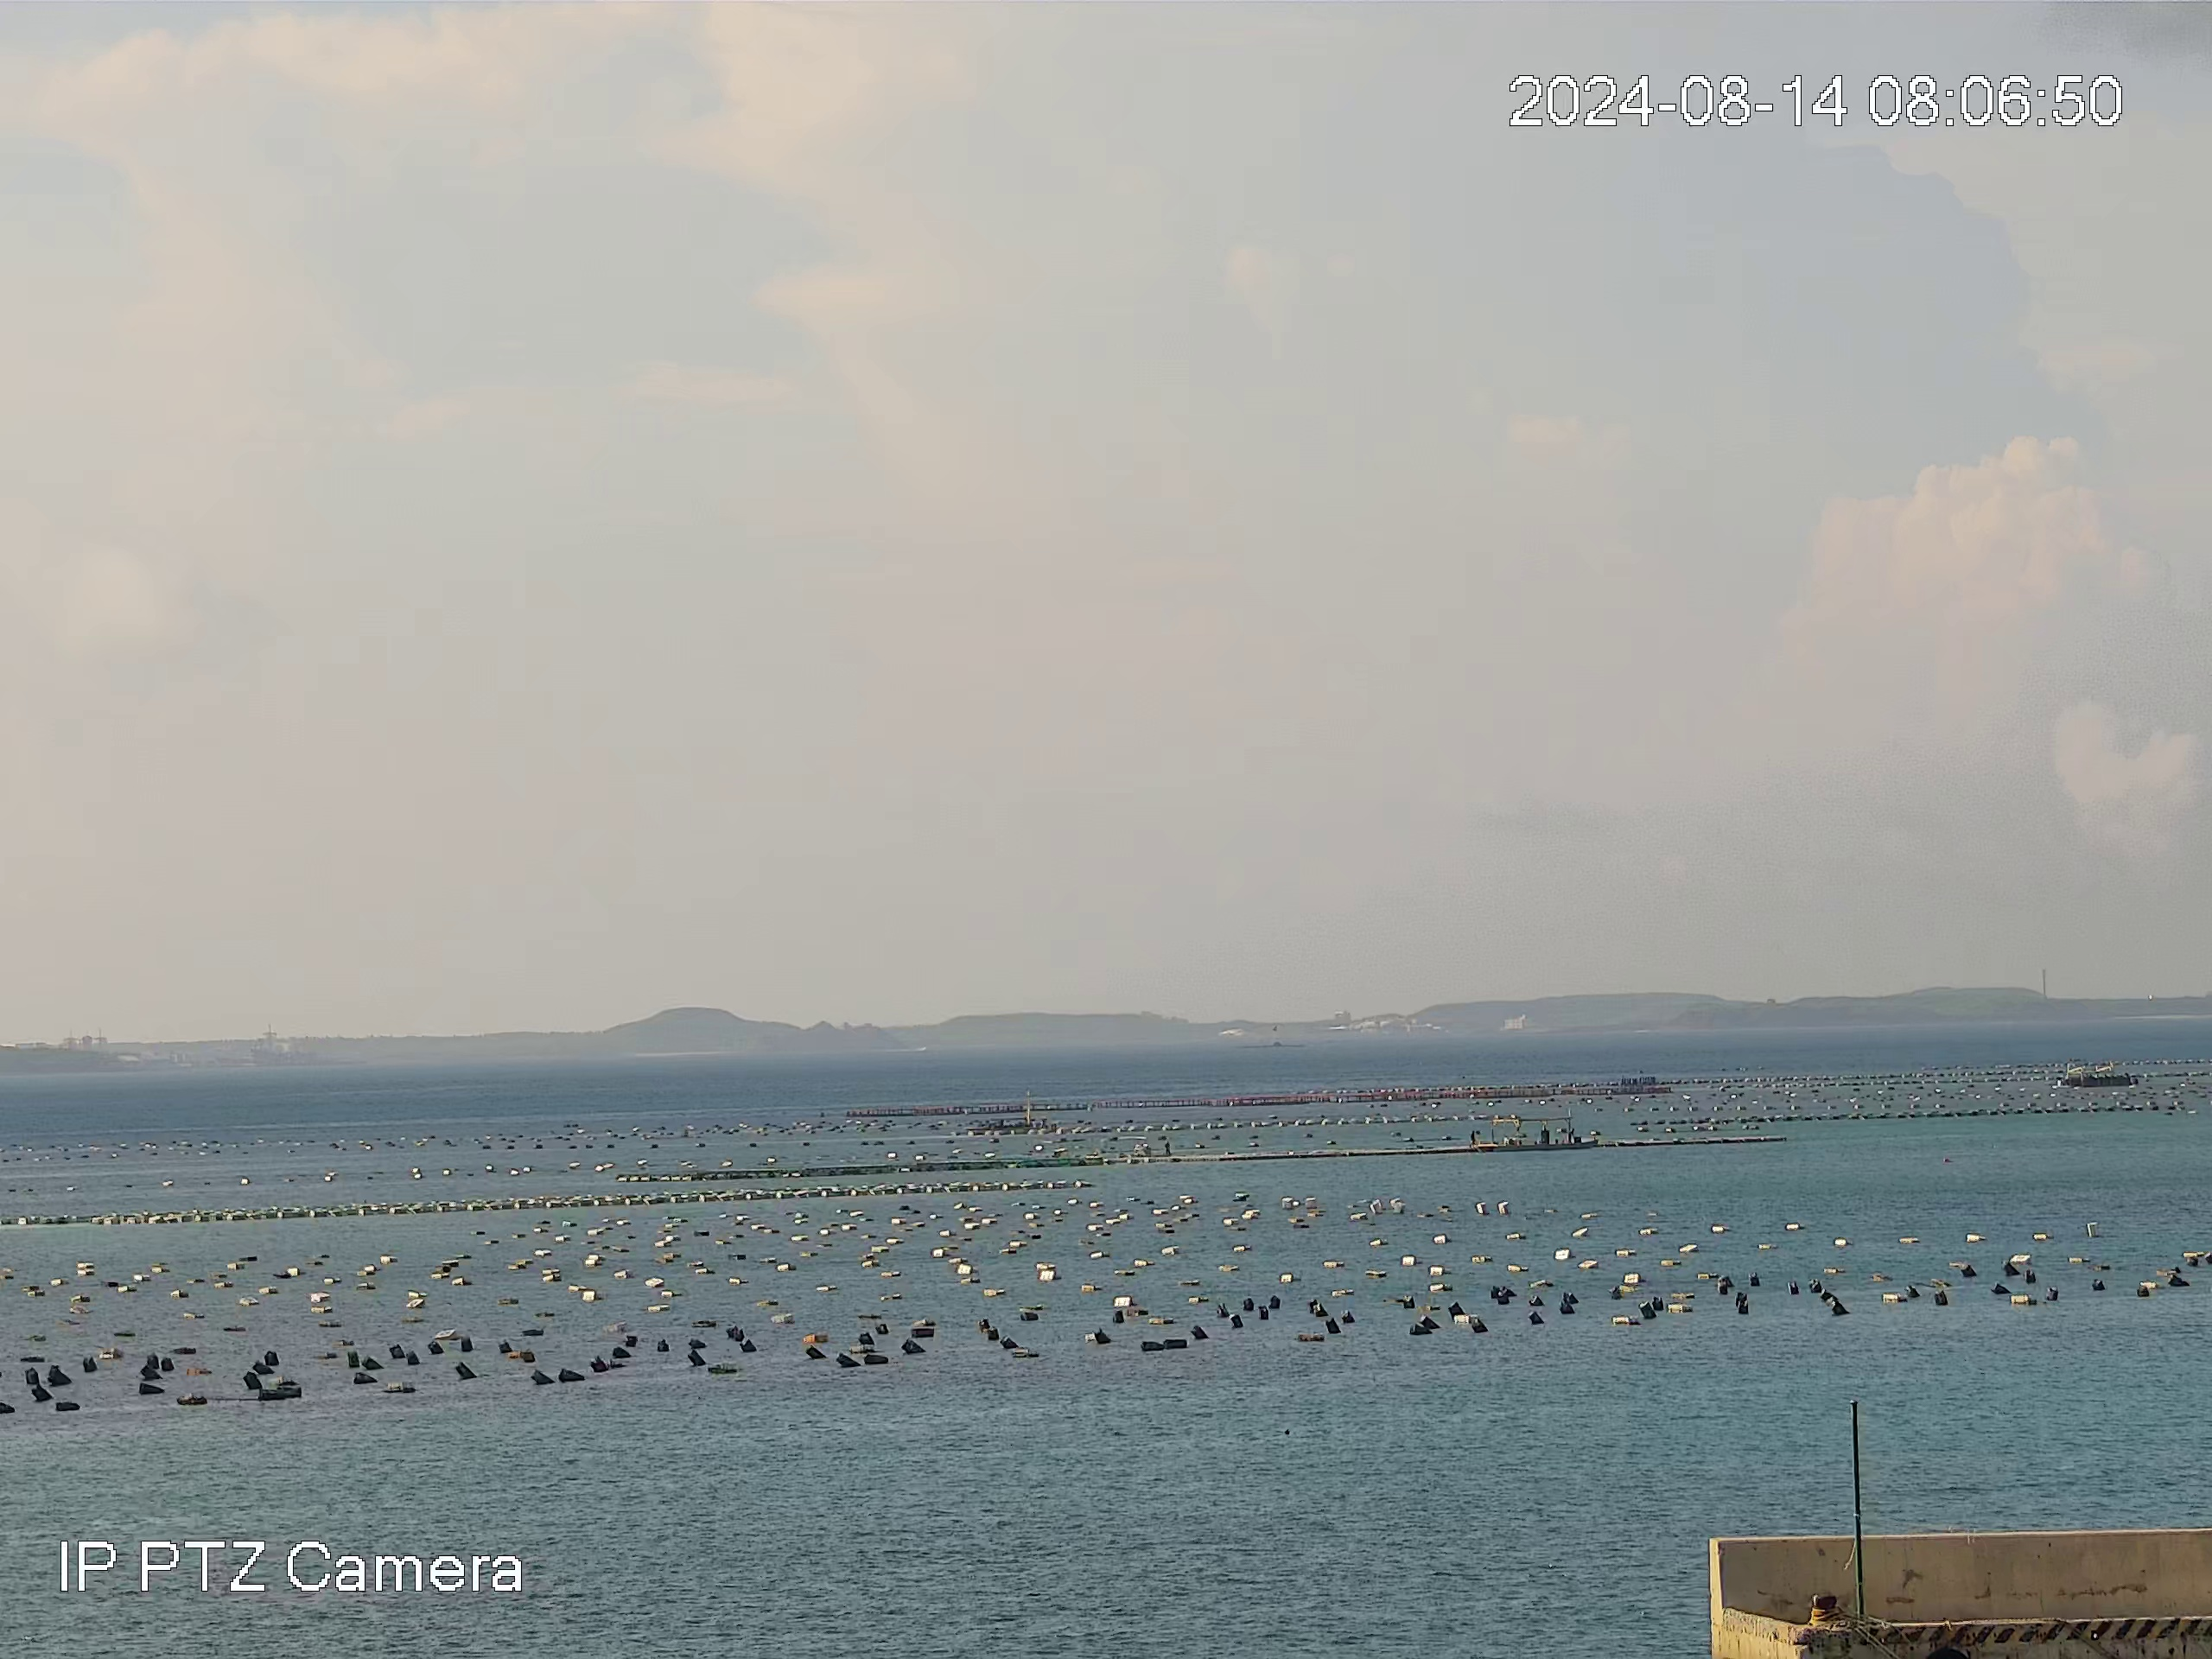boat: (1480, 1112, 1604, 1154), (2059, 1061, 2142, 1091)
